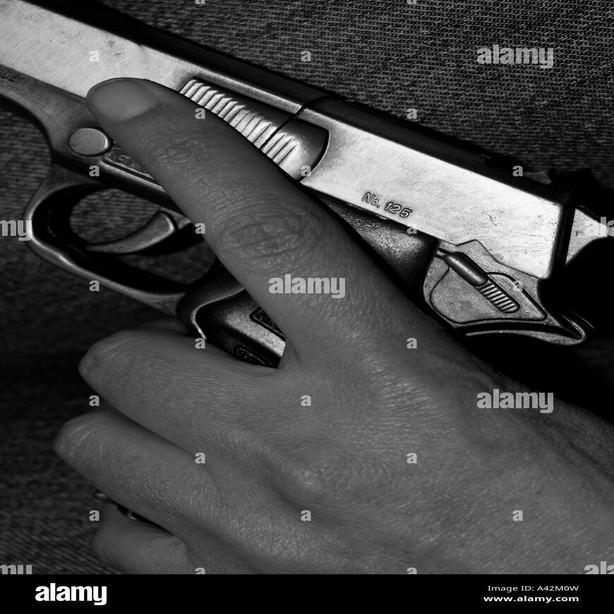Firearm: (0, 0, 614, 474)
